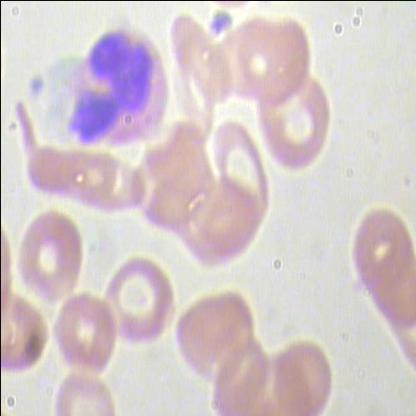Platelets: (207, 9, 233, 40), (25, 72, 47, 98)
RBC: (252, 74, 336, 172), (171, 285, 254, 383), (334, 202, 415, 302), (202, 118, 278, 214), (13, 208, 88, 301), (45, 288, 119, 380), (102, 255, 176, 346), (180, 186, 262, 268), (128, 153, 204, 239), (266, 332, 340, 415), (230, 17, 295, 109), (26, 148, 118, 211), (0, 293, 46, 381)
WBC: (62, 23, 170, 154)
